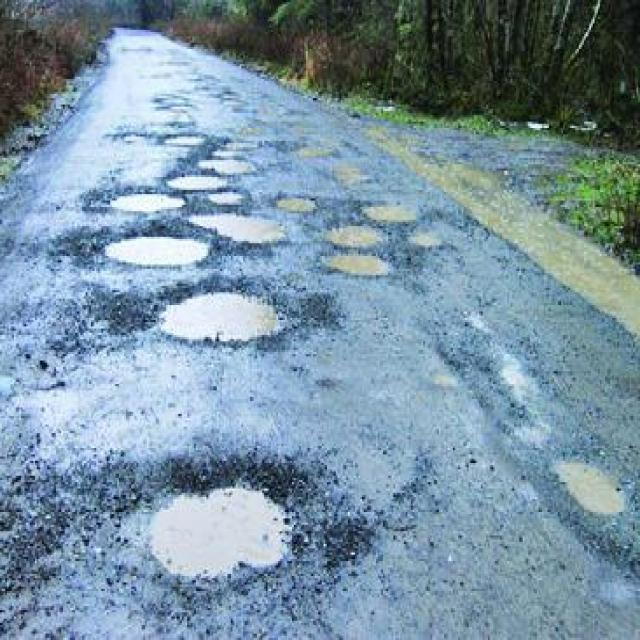Pothole: (148, 456, 314, 586), (157, 287, 290, 345), (554, 451, 633, 515), (101, 234, 217, 266), (322, 249, 400, 279), (111, 189, 190, 214), (166, 172, 234, 193), (330, 223, 386, 248), (365, 200, 423, 221), (199, 157, 260, 174), (274, 193, 321, 212), (407, 227, 447, 246), (166, 131, 208, 148)
